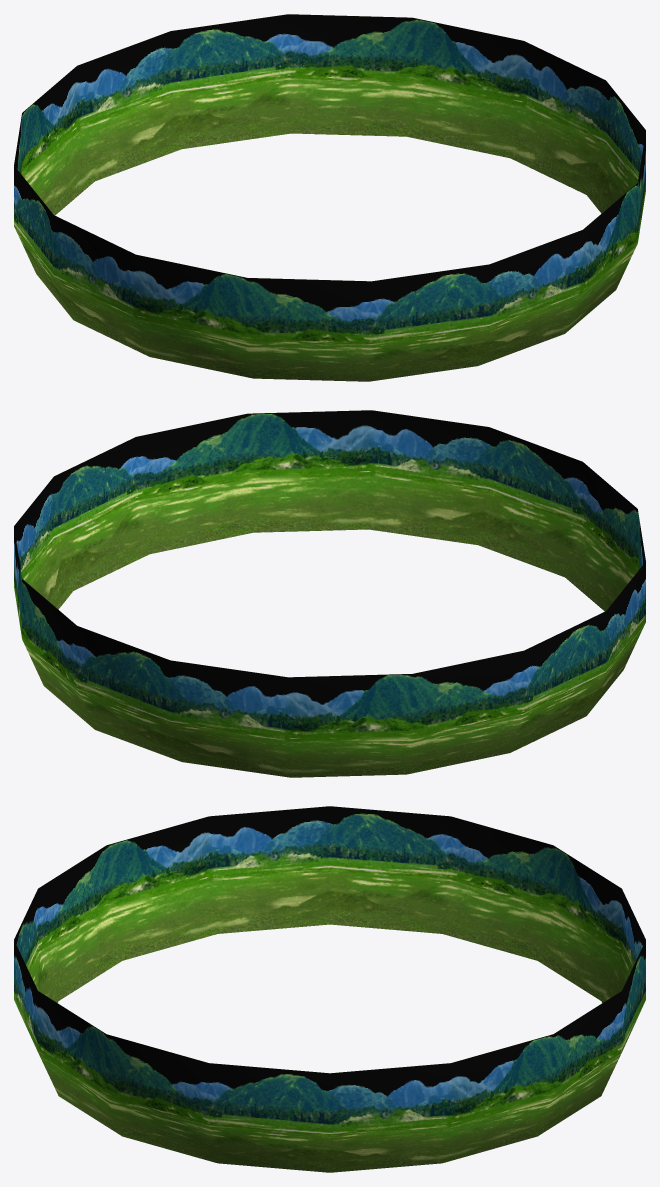
File: skybox_bg.glb
3 views of the same model, one above another, from view 1: azimuth 30°, elevation 25°; view 2: azimuth 150°, elevation 25°; view 3: azimuth 270°, elevation 25° (orthographic).
Parts seen in each view (by area): view 1: skybox_bg; view 2: skybox_bg; view 3: skybox_bg.
Boxes of the visible parts, bbox=[...] form: skybox_bg: bbox=[14, 14, 645, 381]; skybox_bg: bbox=[14, 410, 645, 777]; skybox_bg: bbox=[14, 806, 645, 1172].
Size of the model in its own units: 1.08 by 0.2047 by 1.08.
Materials: 1 (1 with a texture image).
